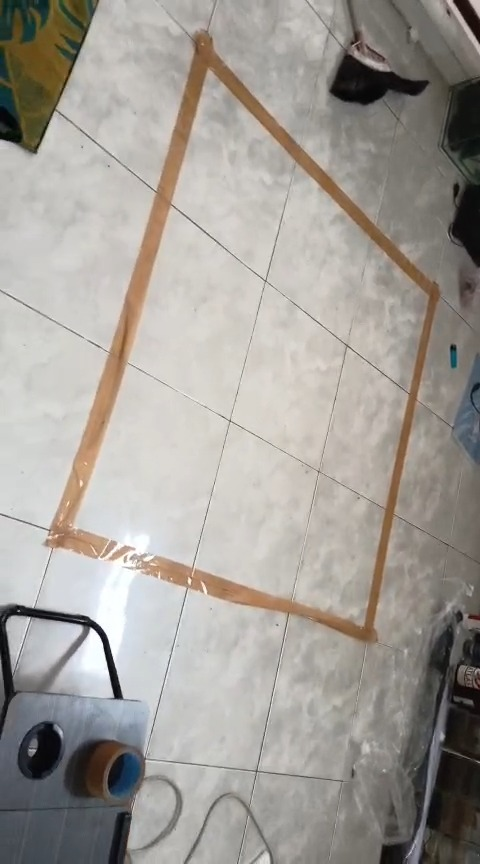floor marking: (47, 31, 438, 641)
